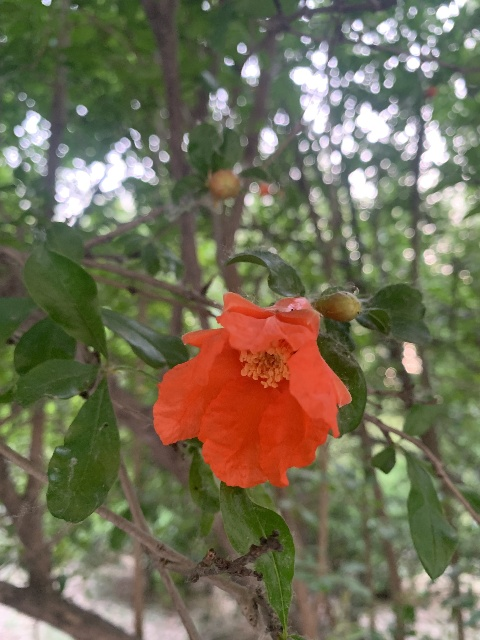bud: (314, 290, 361, 322), (208, 169, 241, 201)
flower: (153, 292, 350, 489)
